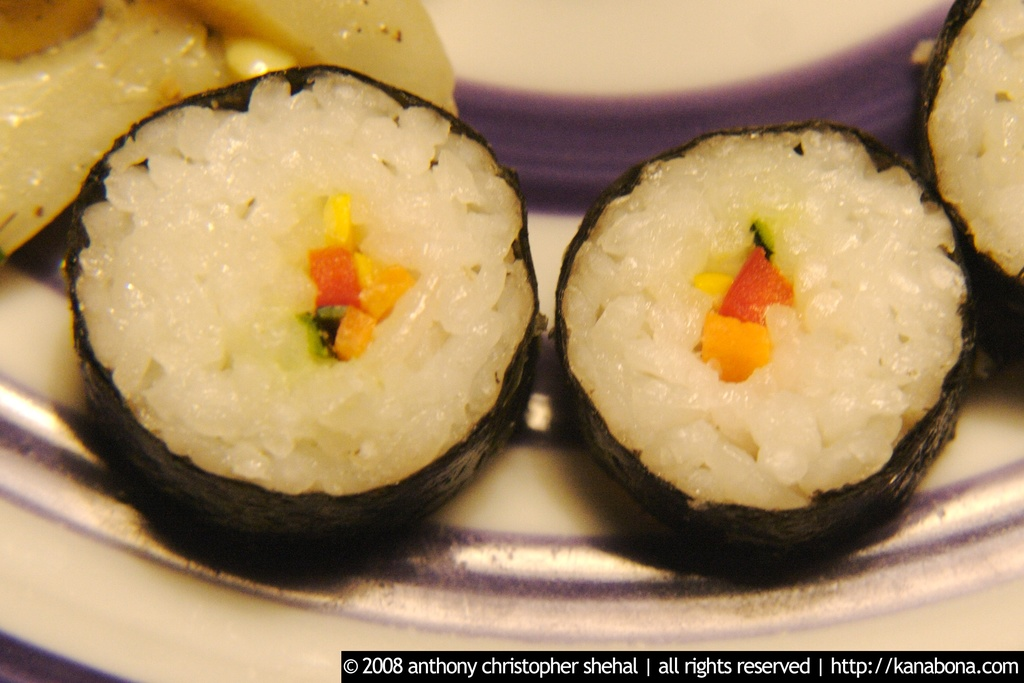sushi: (63, 62, 541, 531), (562, 148, 943, 551), (916, 0, 1023, 284)
